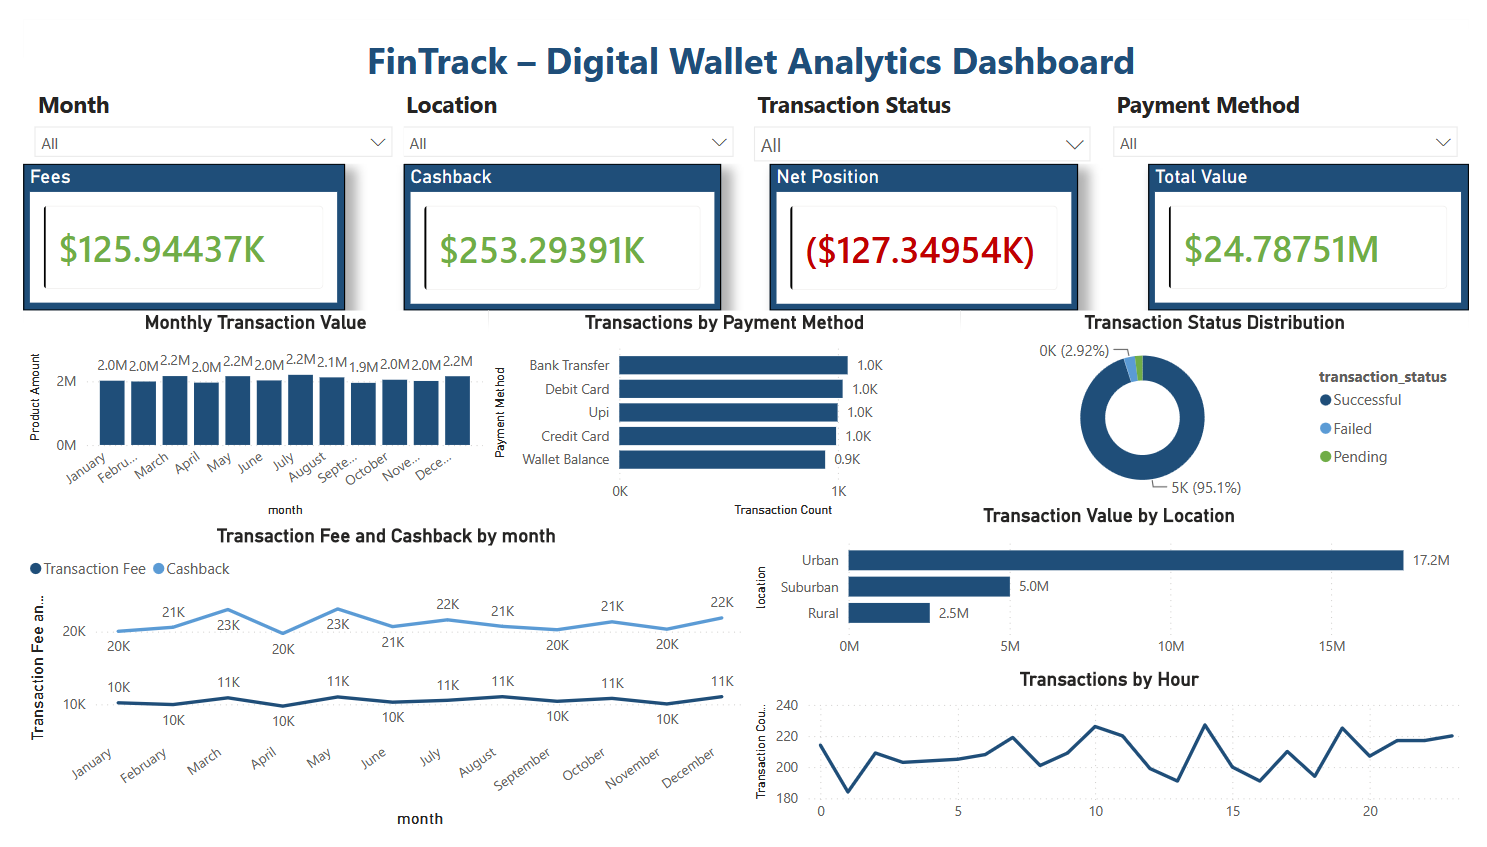

This screenshot's page, from the dashboard's own definition file:
{"tool":"powerbi","page":{"name":"Executive Overview","canvas":[1280,720],"ordinal":0},"visuals":[{"type":"textbox","box":[9.4,9.4,1270.9,75.3],"z":0},{"type":"cardVisual","title":"Total Value","fields":{"Data":["Sum(cleaned_transactions.product_amount)"]},"box":[996.3,127.6,283.4,130.1],"z":1000},{"type":"cardVisual","title":"Fees","fields":{"Data":["Sum(cleaned_transactions.transaction_fee)"]},"box":[0,127.6,284.7,130.1],"z":2000},{"type":"cardVisual","title":"Cashback","fields":{"Data":["Sum(cleaned_transactions.cashback)"]},"box":[336.6,127.8,281.6,130.5],"z":3000},{"type":"cardVisual","title":"Net Position","fields":{"Data":["cleaned_transactions.Net Fee Position"]},"box":[660.7,127.8,273.4,130.5],"z":4000},{"type":"clusteredColumnChart","title":"Monthly Transaction Value","fields":{"Category":["cleaned_transactions.month"],"Y":["Sum(cleaned_transactions.product_amount)"]},"box":[0,258.3,412.1,188.2],"z":5000},{"type":"donutChart","title":"Transaction Status Distribution","fields":{"Category":["cleaned_transactions.transaction_status"],"Y":["cleaned_transactions.count_TID"]},"box":[829.7,258.3,450.6,170.3],"z":6000},{"type":"lineChart","title":"Transactions by Hour","fields":{"Y":["cleaned_transactions.count_TID"],"Category":["cleaned_transactions.hour"]},"box":[642.9,574.2,636.8,146],"z":7000},{"type":"barChart","title":"Transaction Value  by Location","fields":{"Category":["cleaned_transactions.location"],"Y":["Sum(cleaned_transactions.product_amount)"]},"box":[642.9,428.6,637.4,145.6],"z":8000},{"type":"slicer","fields":{"Values":["cleaned_transactions.payment_method"]},"box":[954.7,56.3,325.6,71.4],"z":9000},{"type":"slicer","fields":{"Values":["cleaned_transactions.location"]},"box":[325.6,56.3,313.2,71.4],"z":10000},{"type":"slicer","fields":{"Values":["cleaned_transactions.transaction_status"]},"box":[637.4,56.3,317.3,71.4],"z":11000},{"type":"slicer","fields":{"Values":["cleaned_transactions.month"]},"box":[0,56.3,336.6,71.4],"z":12000},{"type":"clusteredBarChart","title":"Transactions by Payment Method","fields":{"Category":["cleaned_transactions.payment_method"],"Y":["cleaned_transactions.count_TID"]},"box":[412.1,258.3,417.6,188.2],"z":13000},{"type":"lineChart","fields":{"Category":["cleaned_transactions.month"],"Y":["Sum(cleaned_transactions.transaction_fee)","Sum(cleaned_transactions.cashback)"]},"box":[0,446.6,642.9,273.6],"z":14000}]}

Visuals, with their boxes in screenshot pixels (x1, y1, x2, y2), scaled from the page's 1280x720 canvas onto the 1487x847 screenshot:
textbox: 11 11 1486 100
"Total Value" cardVisual: 1157 150 1486 303
"Fees" cardVisual: 0 150 331 303
"Cashback" cardVisual: 391 150 718 304
"Net Position" cardVisual: 768 150 1085 304
"Monthly Transaction Value" clusteredColumnChart: 0 304 479 525
"Transaction Status Distribution" donutChart: 964 304 1486 504
"Transactions by Hour" lineChart: 747 675 1486 846
"Transaction Value  by Location" barChart: 747 504 1486 675
slicer - cleaned_transactions.payment_method: 1109 66 1486 150
slicer - cleaned_transactions.location: 378 66 742 150
slicer - cleaned_transactions.transaction_status: 740 66 1109 150
slicer - cleaned_transactions.month: 0 66 391 150
"Transactions by Payment Method" clusteredBarChart: 479 304 964 525
lineChart - cleaned_transactions.month x Sum(cleaned_transactions.transaction_fee): 0 525 747 846
